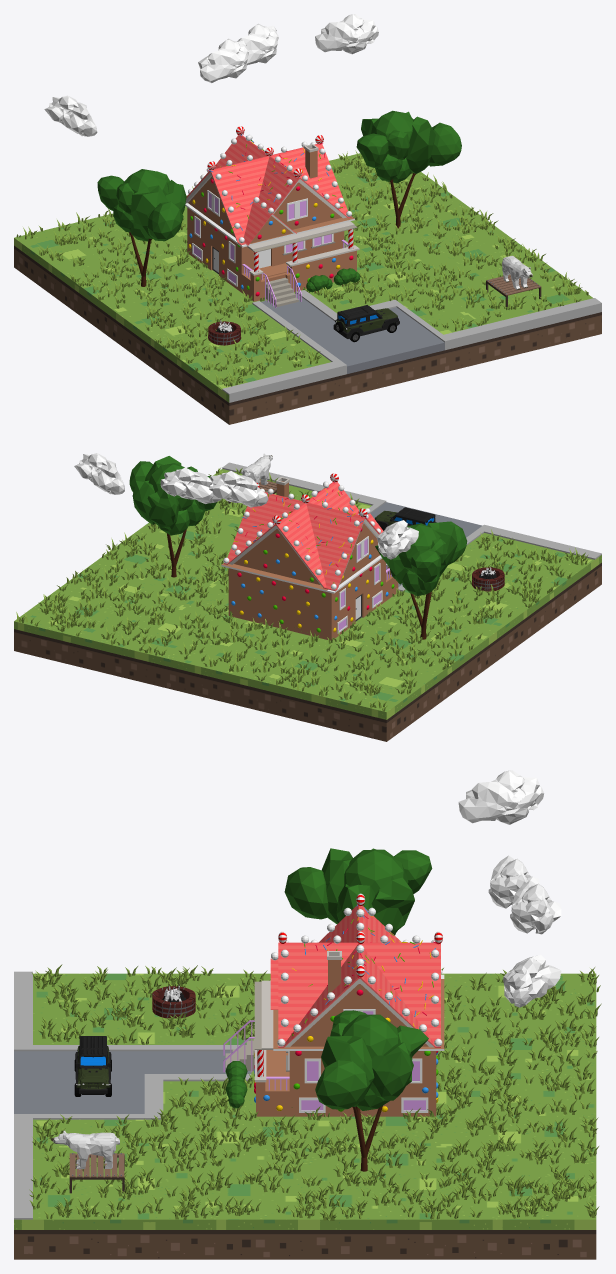
3 views of the same model, one above another, from view 1: azimuth 30°, elevation 25°; view 2: azimuth 150°, elevation 25°; view 3: azimuth 270°, elevation 25° (orthographic). The views are drawn at different scales.
Parts seen in each view (by area): view 1: Cube.006, Cube.1203, Circle.012_Grass_0.192, Cube.007, tree, tree.001, VEHICLES_JEEP, OBJRANDOM_CAMPFIRE, ANIMAL_OSO_POLAR, Cube.009; view 2: Cube.006, Cube.1203, Circle.012_Grass_0.192, Cube.007, tree.001, tree, VEHICLES_JEEP, OBJRANDOM_CAMPFIRE, ANIMAL_OSO_POLAR; view 3: Cube.006, Circle.012_Grass_0.192, Cube.1203, tree, Cube.007, tree.001, VEHICLES_JEEP, ANIMAL_OSO_POLAR, Cube.009, OBJRANDOM_CAMPFIRE.
Boxes of the visible parts, x1,y1,x2,y2 form: Cube.006: (14,153,601,424); Cube.1203: (185,126,359,307); Circle.012_Grass_0.192: (16,150,588,386); Cube.007: (44,14,378,136); tree: (356,110,461,228); tree.001: (97,169,186,286); VEHICLES_JEEP: (333,305,399,342); OBJRANDOM_CAMPFIRE: (208,319,241,345); ANIMAL_OSO_POLAR: (502,255,532,290); Cube.009: (486,274,541,306); Cube.006: (14,462,601,741); Cube.1203: (221,473,398,640); Circle.012_Grass_0.192: (16,468,588,711); Cube.007: (74,453,418,559); tree.001: (375,521,467,639); tree: (129,456,216,577); VEHICLES_JEEP: (375,507,436,530); OBJRANDOM_CAMPFIRE: (472,567,504,591); ANIMAL_OSO_POLAR: (242,453,272,485); Cube.006: (14,971,596,1259); Circle.012_Grass_0.192: (29,964,601,1220); Cube.1203: (223,893,444,1116); tree: (315,1010,428,1171); Cube.007: (458,770,561,1007); tree.001: (284,848,432,935); VEHICLES_JEEP: (74,1036,111,1096); ANIMAL_OSO_POLAR: (50,1130,119,1169); Cube.009: (69,1153,124,1193); OBJRANDOM_CAMPFIRE: (152,984,195,1018).
Size of the model in its own units: 4071 by 2198 by 4040.
Materials: 42 (5 with a texture image).
